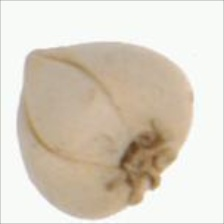L5: (18, 45, 131, 166), (102, 118, 178, 207)
L6: (15, 39, 198, 220)
